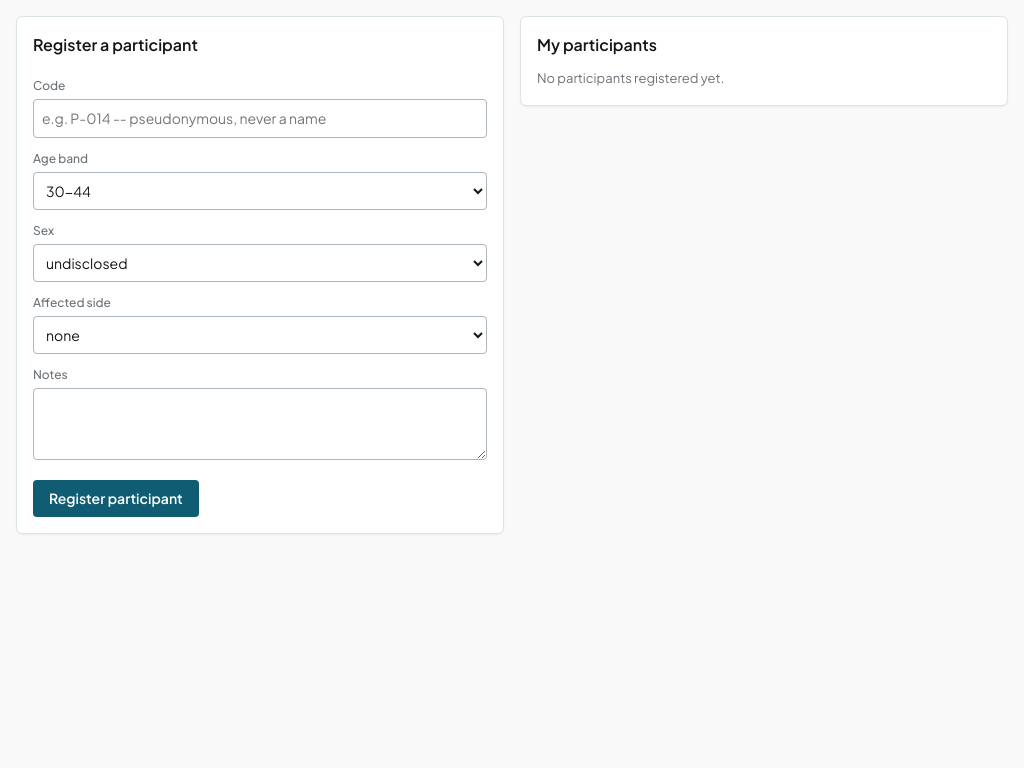
Test: ParticipantsPage › shows a validation error from the backend without clearing the form
Expected: the text "No participants registered yet." is shown, [537,70,724,86]
Type "x" into the field labelled "Code" at (260, 118), box [33,99,487,138]
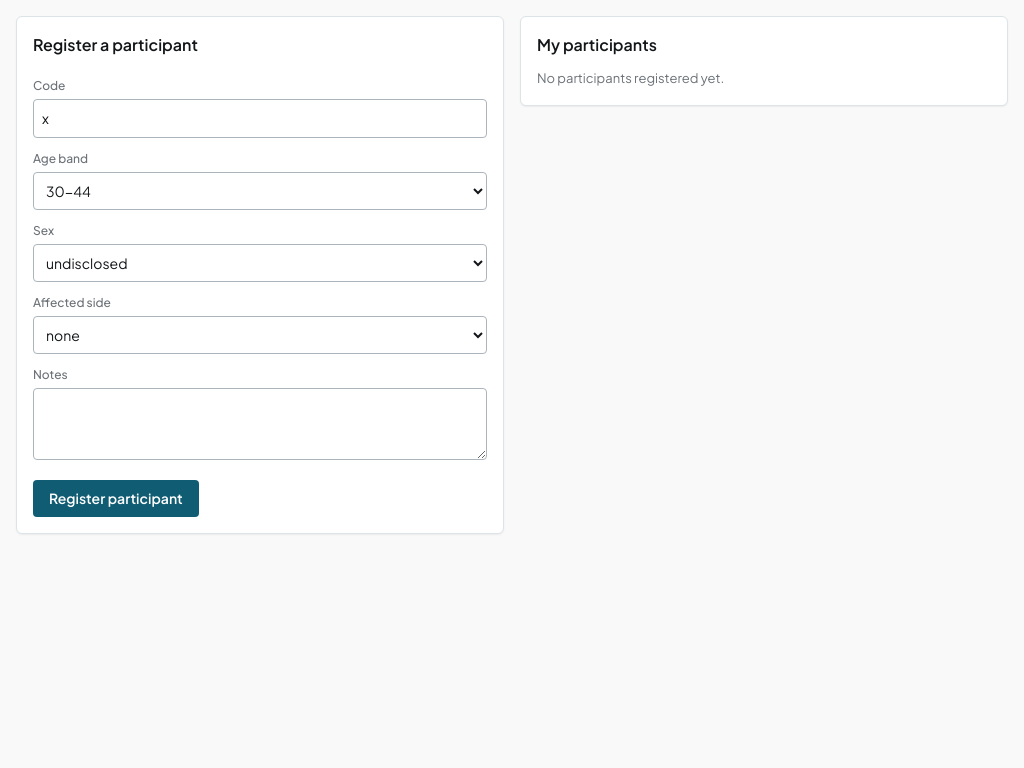
Click the button "Register participant" at (116, 498), box [33,480,199,517]
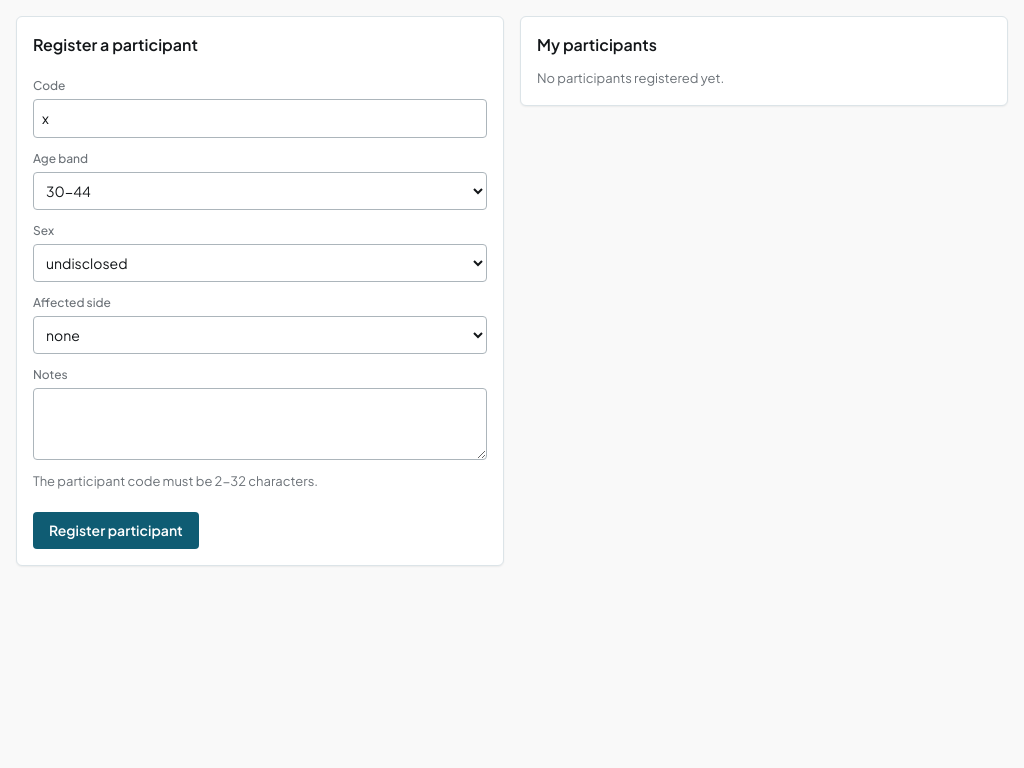
Expected: the message shows "2-32 characters", [33,473,318,489]
